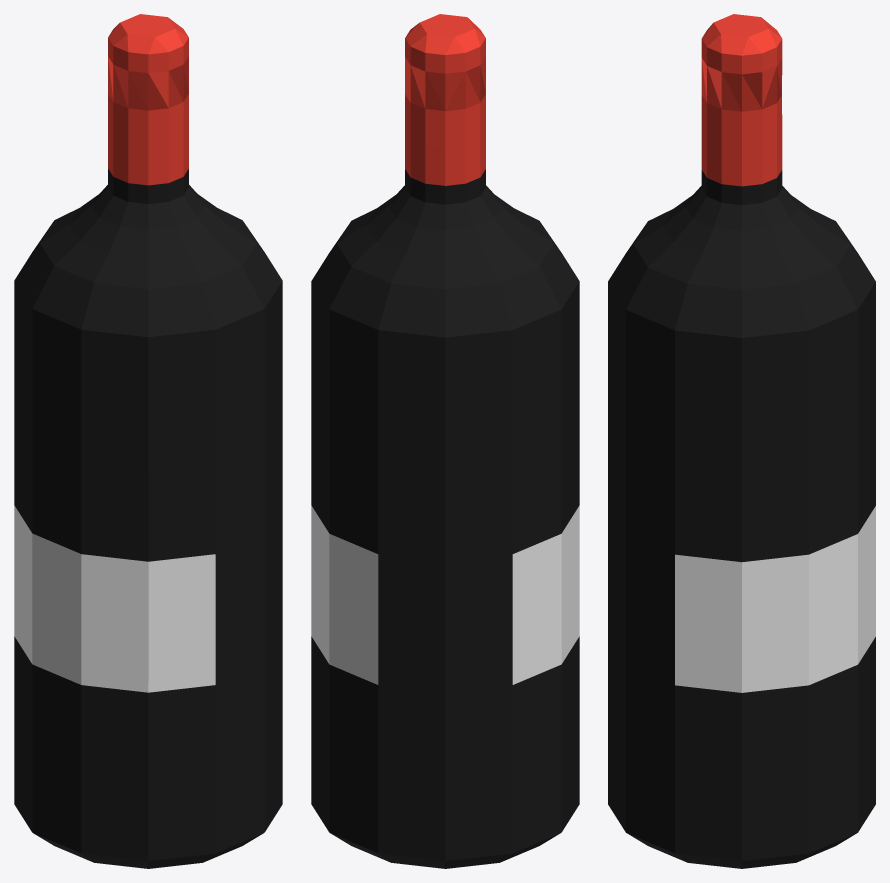
The model's file is wine-bottle-by-jarlan-perez-dX8r5CuSpKx.glb.
The picture shows the model from 3 angles, left to right: view 1: azimuth 30°, elevation 25°; view 2: azimuth 150°, elevation 25°; view 3: azimuth 270°, elevation 25°; orthographic projection.
Parts seen in each view (by area): view 1: Node; view 2: Node; view 3: Node.
Boxes of the visible parts, box(x1,y1,x2,y2) form: Node: box(14, 14, 282, 868); Node: box(311, 14, 579, 868); Node: box(608, 14, 875, 868).
Size of the model in its own units: 0.13 by 0.4267 by 0.13.
